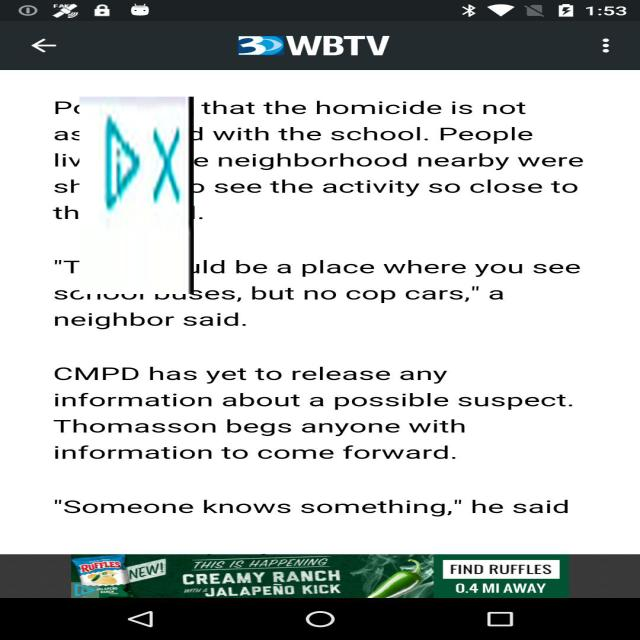sneaking: (79, 97, 194, 294)
